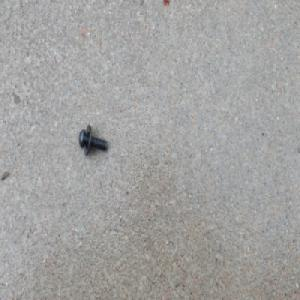BoltWasher: (78, 125, 108, 159)
